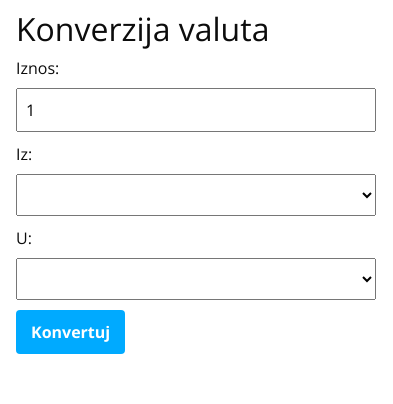
CurrencyConverter Component › should handle conversion error
The width and height of the screenshot is (393, 404).
expect the dropdown labelled "Iz:" is shown: met, box [16, 174, 376, 216]
# Simuliraj unos i izbor valuta
Replace the text in the number field labelled "Iznos:" with "100" at (196, 110), box [16, 88, 376, 132]
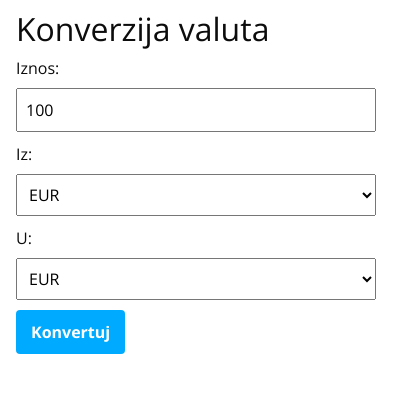
Select "USD" in the dropdown labelled "Iz:" at (196, 195), box [16, 174, 376, 216]
Select "GBP" in the dropdown labelled "U:" at (196, 279), box [16, 258, 376, 300]
# Simuliraj klik na dugme za konverziju
Click the button "Konvertuj".
click(71, 332)  # box [16, 310, 125, 354]
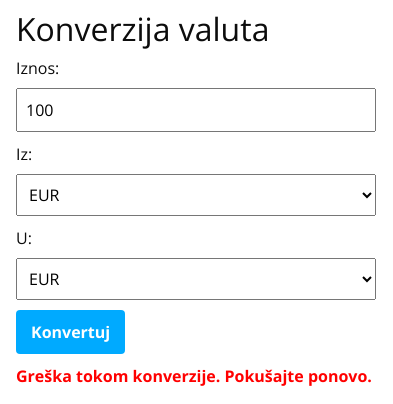
expect the text "Greška tokom konverzije. Pokušajte ponovo." is shown: met, box [16, 365, 372, 387]
